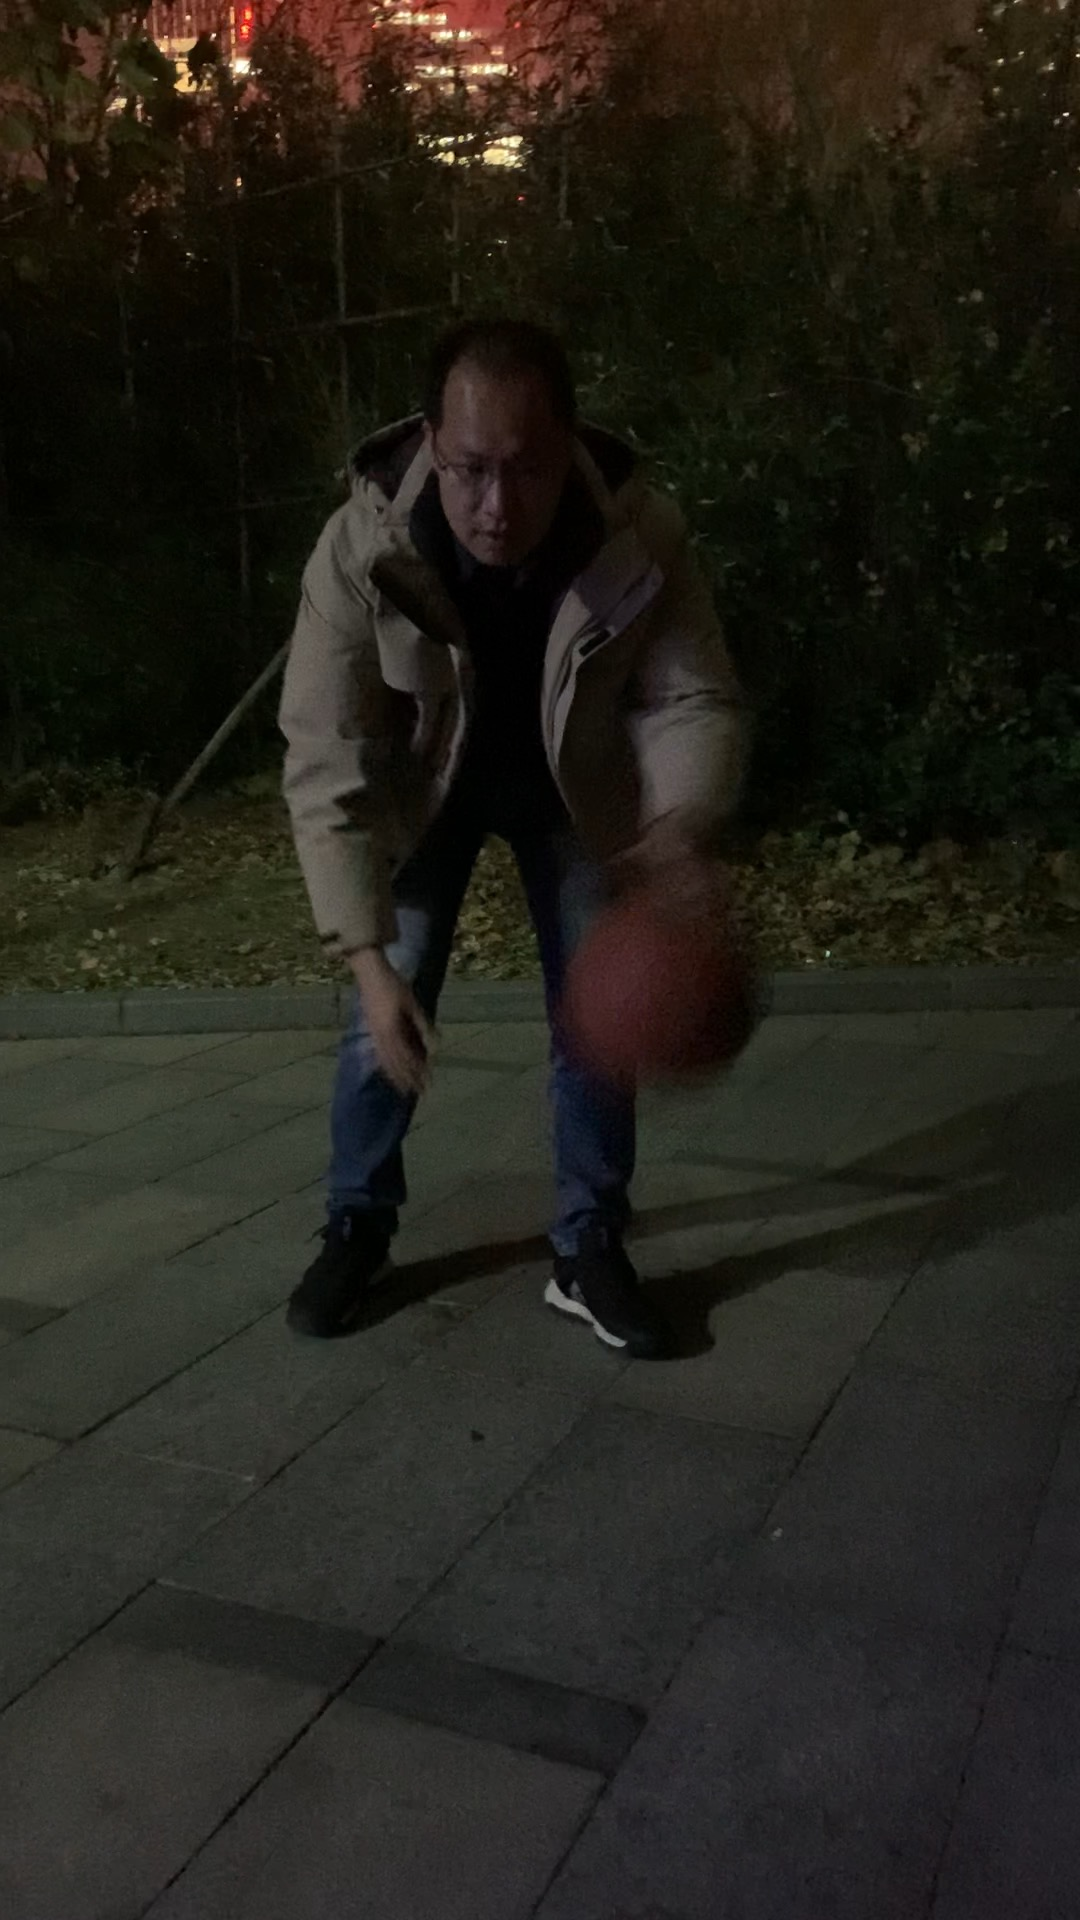ball: (574, 887, 762, 1076)
